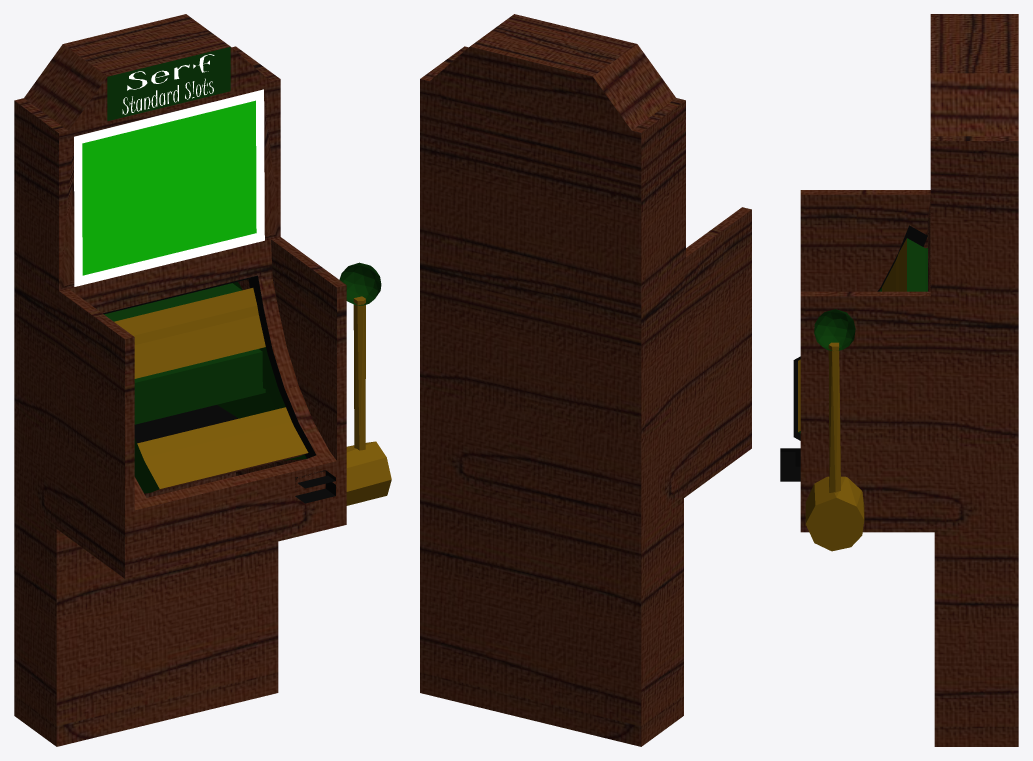
The model's file is Slot Machine - Serf - Battle.glb.
The picture shows the model from 3 angles, left to right: view 1: azimuth 30°, elevation 25°; view 2: azimuth 150°, elevation 25°; view 3: azimuth 270°, elevation 25°; orthographic projection.
Parts seen in each view (by area): view 1: Slot Machine, Pull Handle, Main Text; view 2: Slot Machine; view 3: Slot Machine, Pull Handle.
Boxes of the visible parts, x1,y1,x2,y2 form: Slot Machine: (14,14,346,746); Pull Handle: (339,262,391,505); Main Text: (122,54,214,114); Slot Machine: (420,14,751,746); Slot Machine: (780,14,1018,746); Pull Handle: (805,309,864,551).
Size of what is drawn, in the model's own units: 0.8369 by 1.95 by 0.6478.
Materials: 7 (1 with a texture image).
